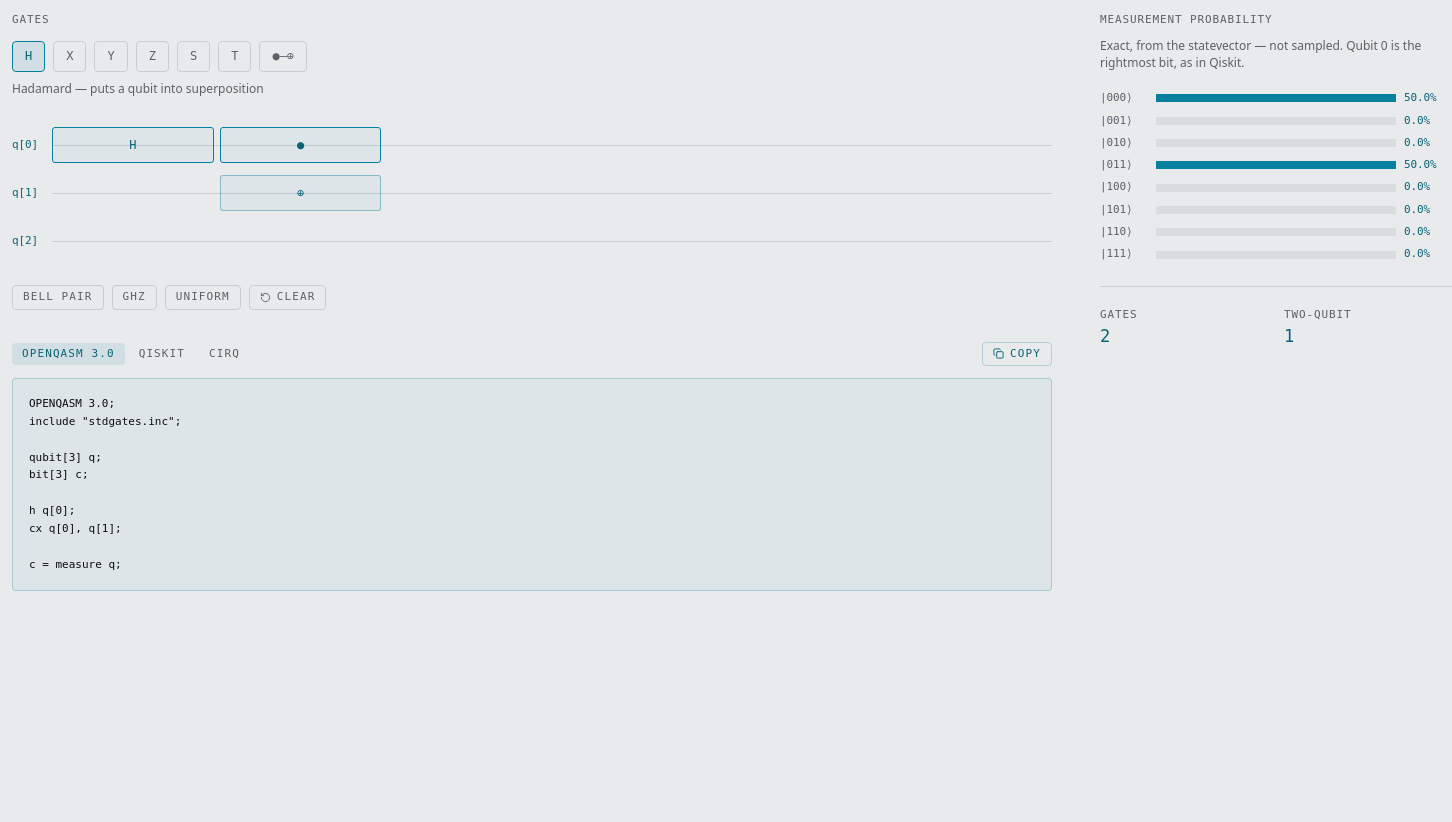
Scenario: CircuitSandbox › keeps primary mobile controls touch-sized and preserves gate placement
Click the button named "place h on qubit 2, step 6" at (971, 241), box [890,223,1052,259]
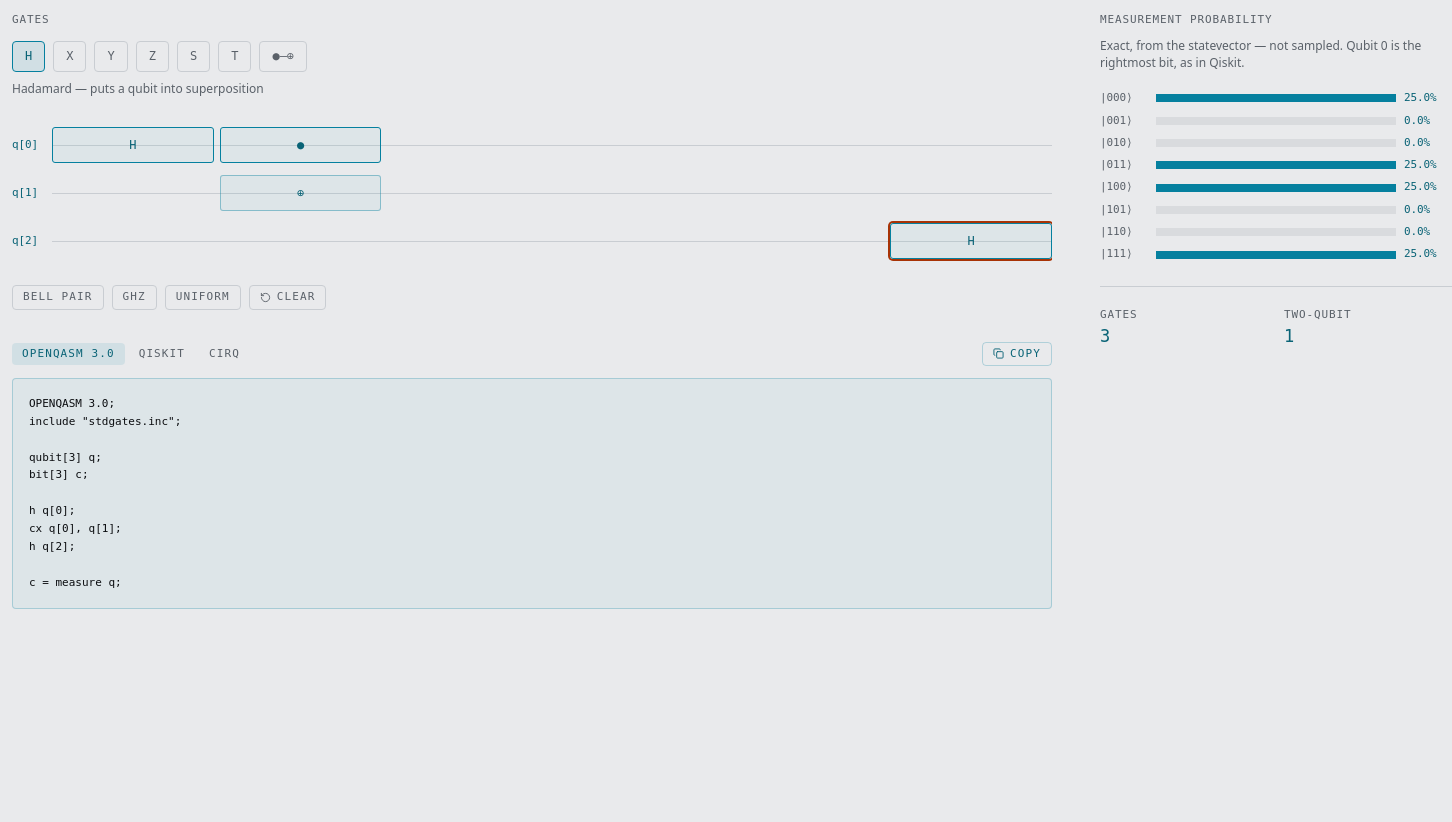
Expected: the button named "remove h on qubit 2, step 6" is shown, [890,223,1052,259]
